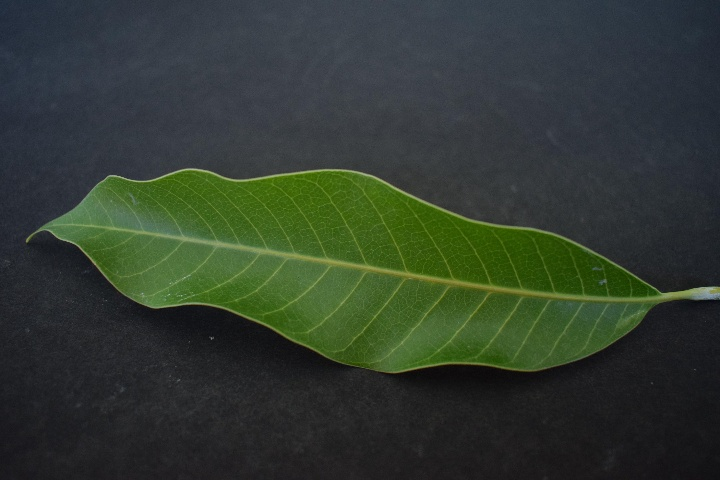healthy: (39, 167, 659, 375)
